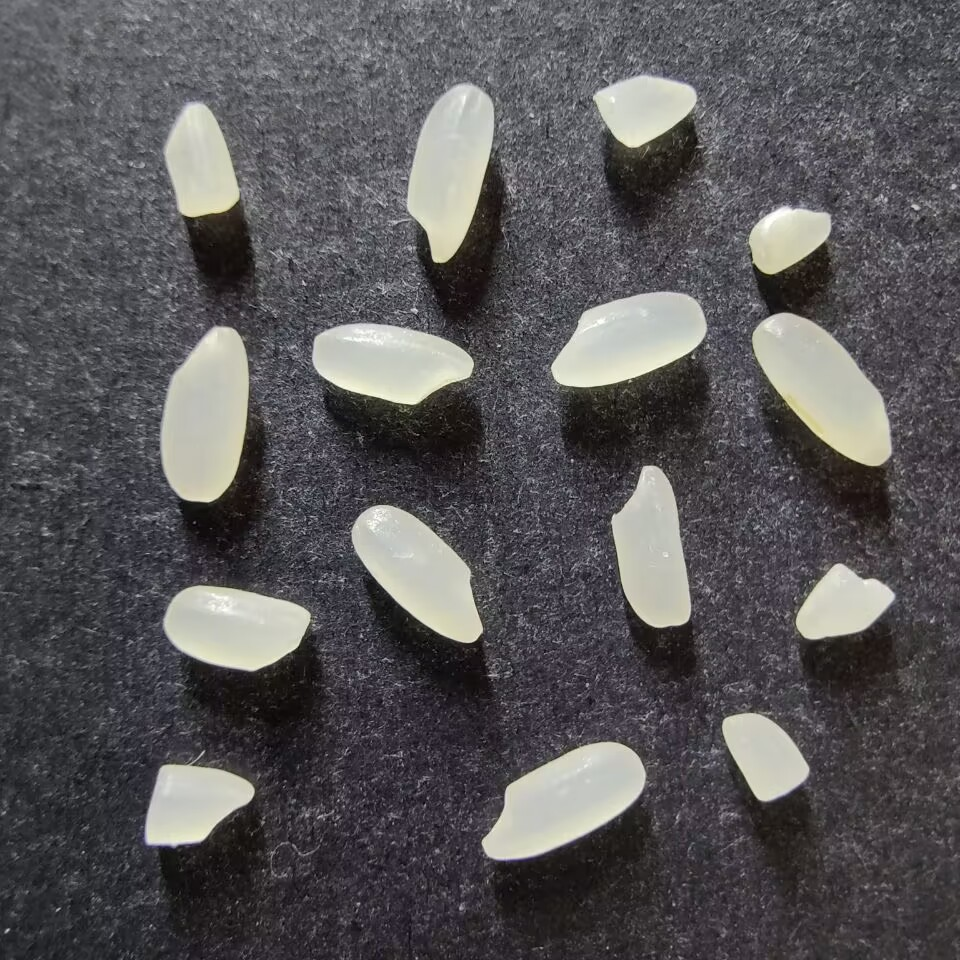broken: (144, 763, 255, 846), (164, 102, 240, 217), (721, 712, 810, 801), (794, 562, 894, 639), (594, 74, 697, 148), (748, 207, 832, 275)
rice: (751, 311, 892, 466), (481, 741, 646, 860), (350, 504, 482, 644), (405, 84, 494, 263), (159, 325, 248, 503), (550, 290, 706, 387), (310, 322, 474, 404), (610, 464, 691, 628), (163, 585, 310, 672)
